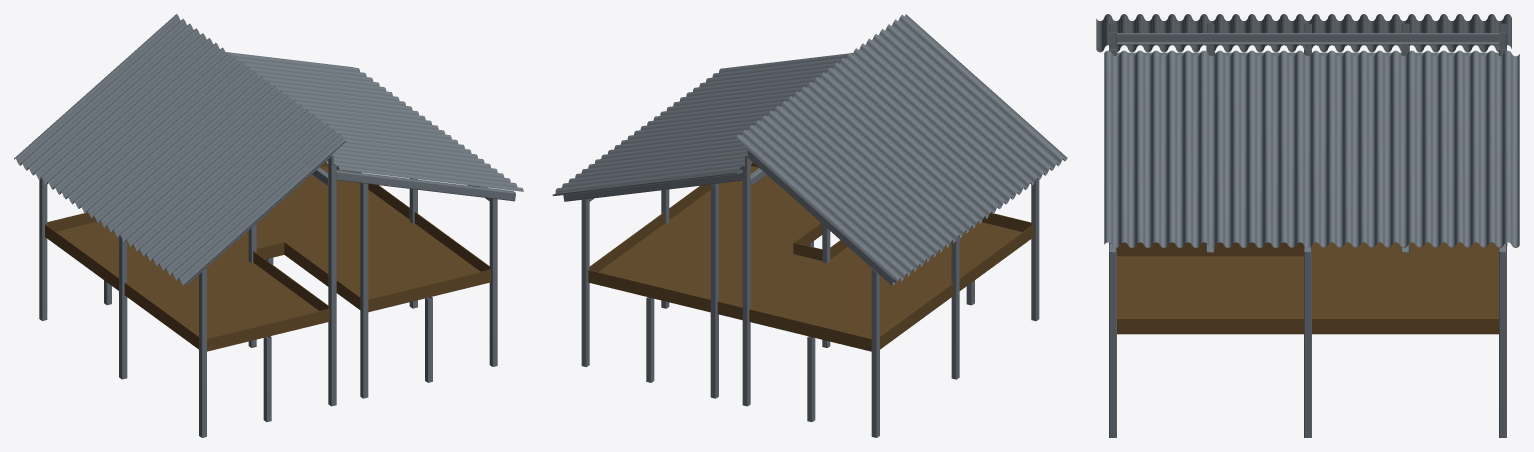
File: DryingBed.fbx
3 renders of one model, left to right at view 1: azimuth 30°, elevation 25°; view 2: azimuth 150°, elevation 25°; view 3: azimuth 270°, elevation 25°, orthographic. The views are drawn at different scales.
Visible parts, largest first — view 1: DryingBed; view 2: DryingBed; view 3: DryingBed.
Boxes of the visible parts, x1=… form: DryingBed: x1=14, y1=14, x2=523, y2=437; DryingBed: x1=552, y1=14, x2=1067, y2=437; DryingBed: x1=1096, y1=14, x2=1519, y2=437.
Bounding box in the file's own units: 1640 × 1233 × 1434.
